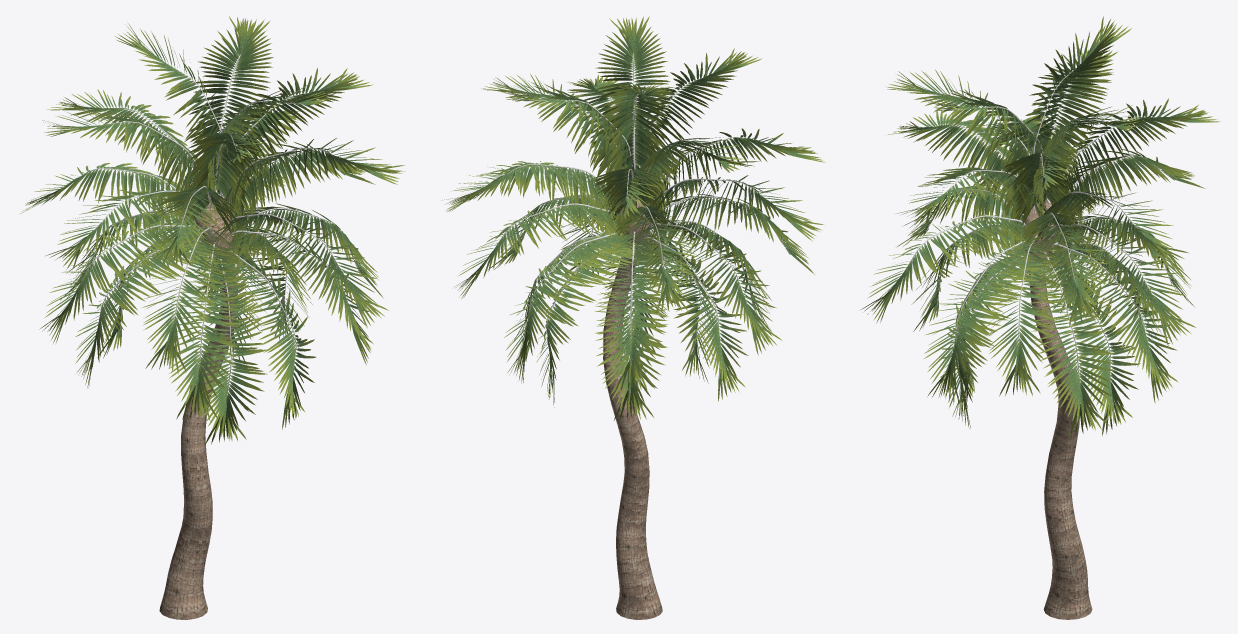
The picture shows the model from 3 angles, left to right: view 1: azimuth 30°, elevation 25°; view 2: azimuth 150°, elevation 25°; view 3: azimuth 270°, elevation 25°; orthographic projection. The views are drawn at different scales.
Parts seen in each view (by area): view 1: palm_leaf_1 - copy_2, palm_leaf_1 - copy_3, palm_trunk_6_0, trunk_2_1_1; view 2: palm_leaf_1 - copy_2, palm_leaf_1 - copy_3, palm_trunk_6_0, trunk_2_1_1; view 3: palm_leaf_1 - copy_2, palm_leaf_1 - copy_3, palm_trunk_6_0, trunk_2_1_1.
Part boxes in pixels (bbox=[...]): palm_leaf_1 - copy_2: bbox=[19, 16, 405, 374]; palm_leaf_1 - copy_3: bbox=[39, 210, 383, 444]; palm_trunk_6_0: bbox=[159, 196, 237, 619]; trunk_2_1_1: bbox=[48, 54, 359, 396]; palm_leaf_1 - copy_2: bbox=[442, 16, 825, 313]; palm_leaf_1 - copy_3: bbox=[487, 209, 782, 420]; palm_trunk_6_0: bbox=[603, 195, 662, 619]; trunk_2_1_1: bbox=[473, 53, 793, 376]; palm_leaf_1 - copy_2: bbox=[861, 16, 1220, 367]; palm_leaf_1 - copy_3: bbox=[911, 188, 1194, 437]; palm_trunk_6_0: bbox=[1023, 200, 1092, 619]; trunk_2_1_1: bbox=[905, 70, 1179, 383].
Bounding box in the file's own units: 9.27 × 14.19 × 8.26.
Materials: 4 (3 with a texture image).
